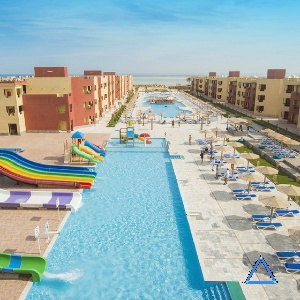triangle: (242, 252, 279, 288)
